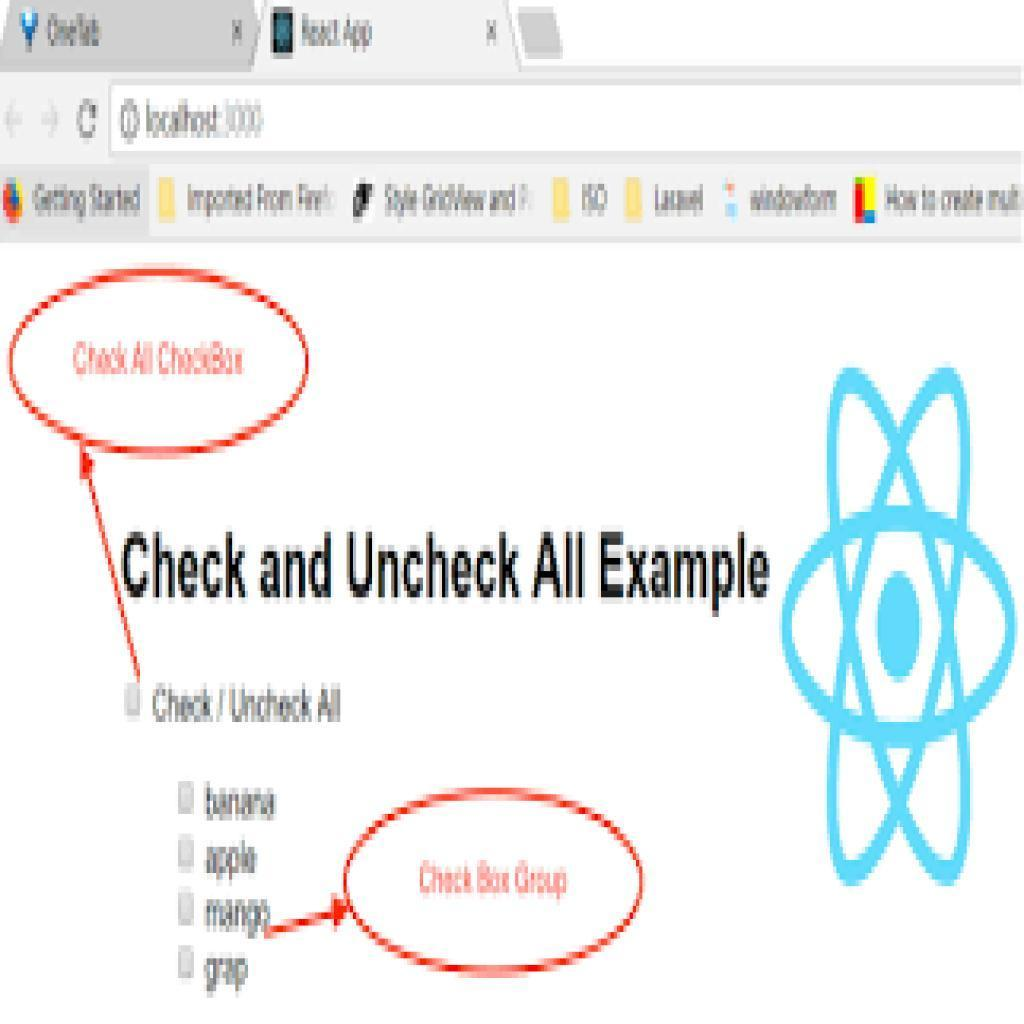checkbox: (180, 891, 198, 927), (178, 782, 196, 816), (125, 685, 143, 716), (178, 837, 196, 868), (180, 945, 196, 979)
icon: (72, 95, 104, 142), (118, 97, 145, 145)
